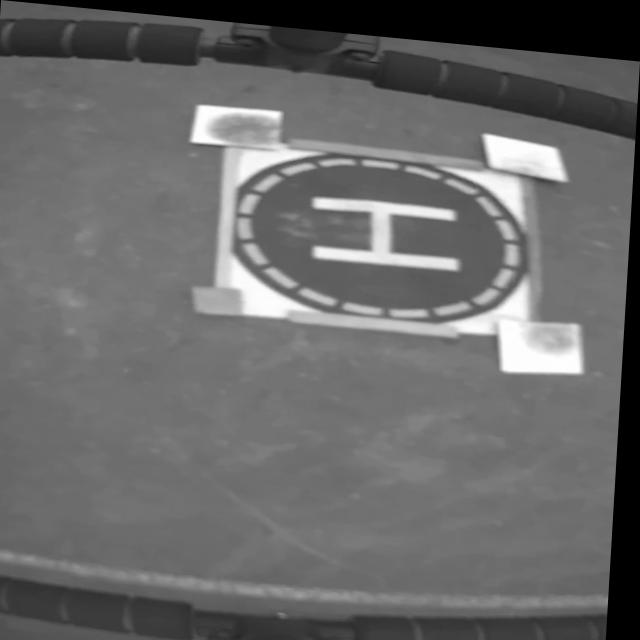Helipad: (313, 190, 462, 260)
